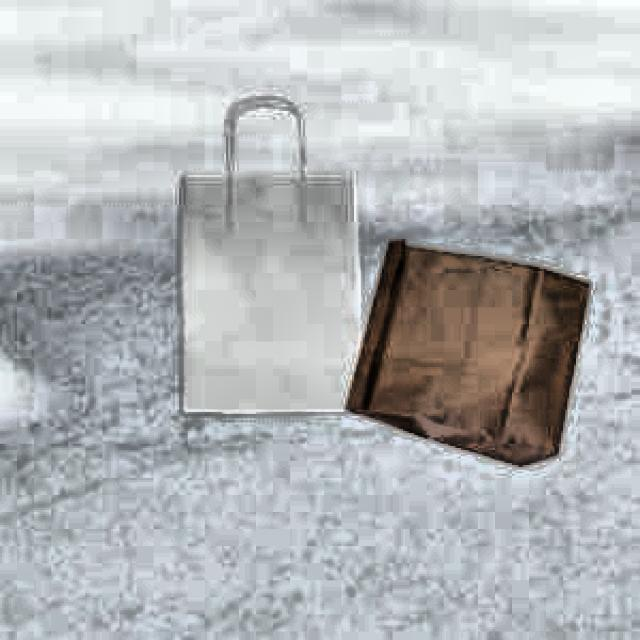Paper-bag: (342, 226, 602, 473)
